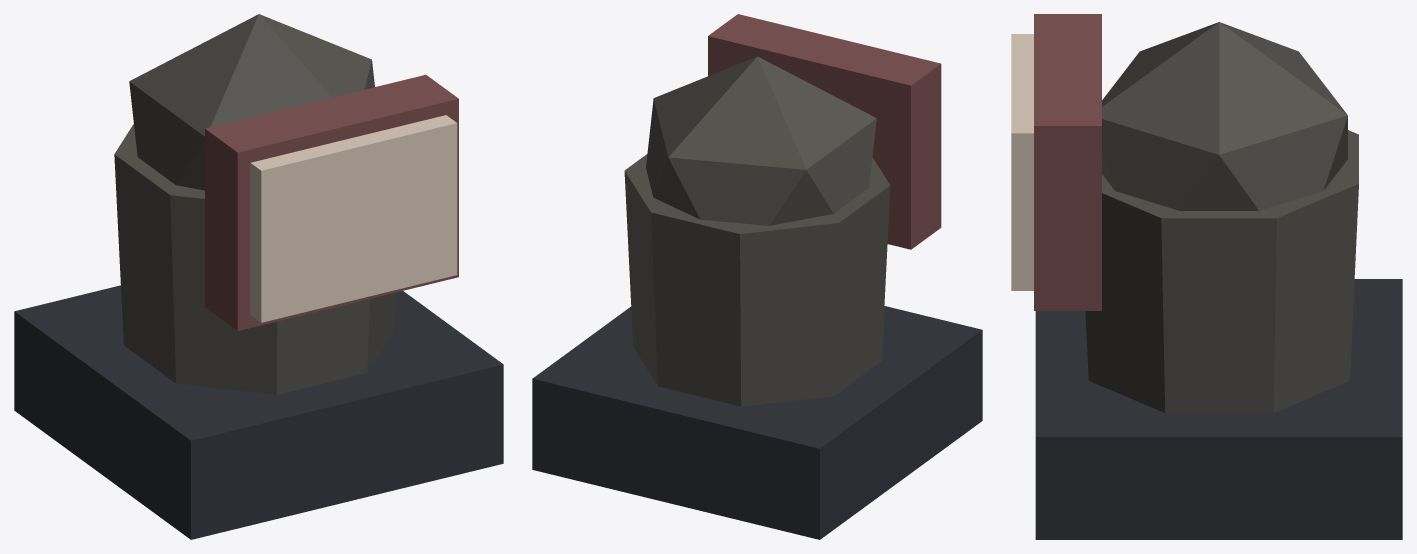
File: inf_possum_lower_leg_l.fbx
3 views of the same model, side by side, from view 1: azimuth 30°, elevation 25°; view 2: azimuth 150°, elevation 25°; view 3: azimuth 270°, elevation 25° (orthographic). The views are drawn at different scales.
Visible parts, largest first — view 1: inf_possum_lower_leg_l; view 2: inf_possum_lower_leg_l; view 3: inf_possum_lower_leg_l.
Boxes of the visible parts, x1=… form: inf_possum_lower_leg_l: x1=14, y1=14, x2=503, y2=539; inf_possum_lower_leg_l: x1=532, y1=14, x2=982, y2=539; inf_possum_lower_leg_l: x1=1011, y1=14, x2=1402, y2=539.
Bounding box in the file's own units: 99 × 128 × 103.
